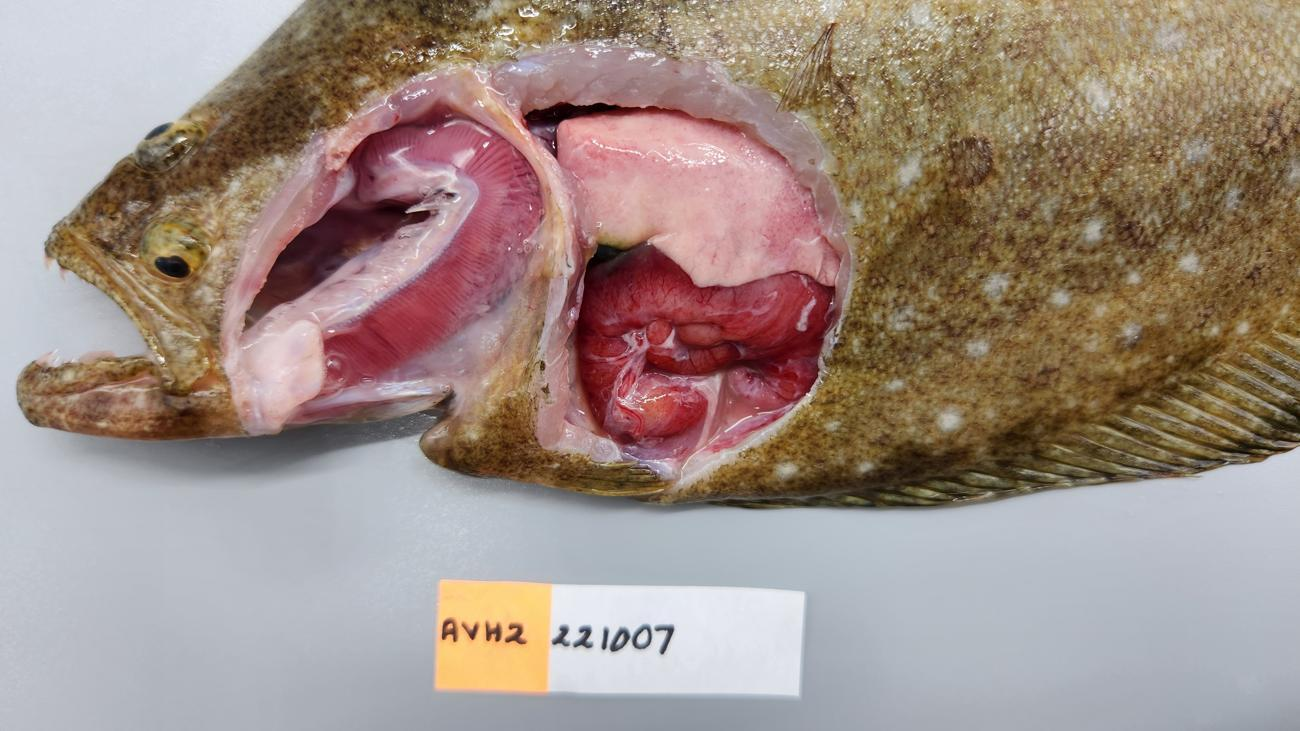VIGIP: (323, 120, 545, 394)
